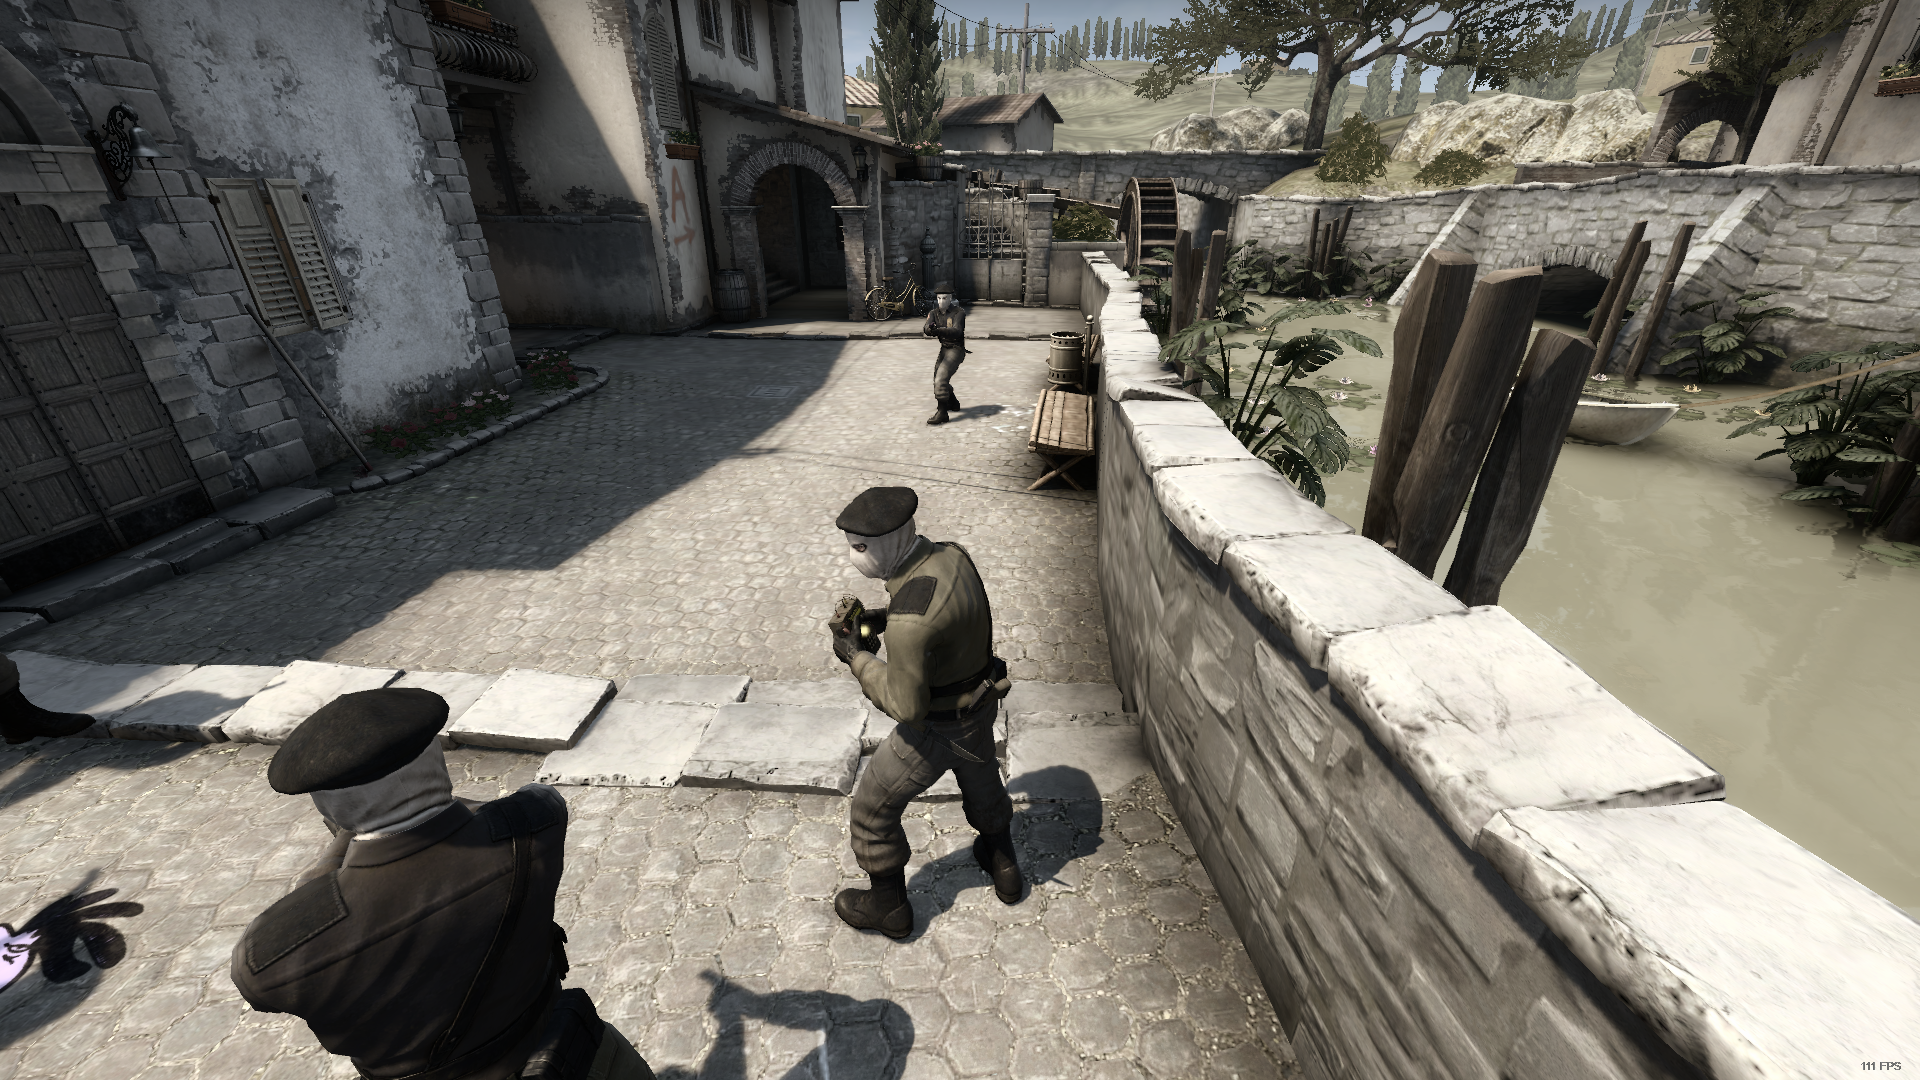t: (233, 688, 659, 1080), (828, 487, 1029, 942), (924, 290, 967, 427)
